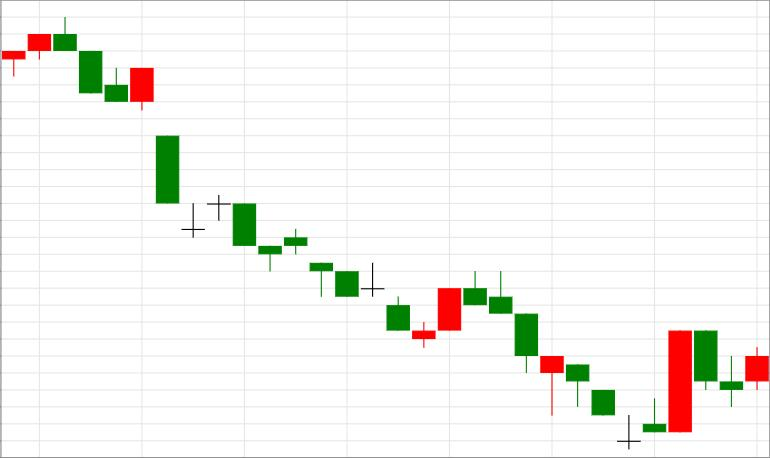morning_star_rise: (233, 204, 460, 349)
